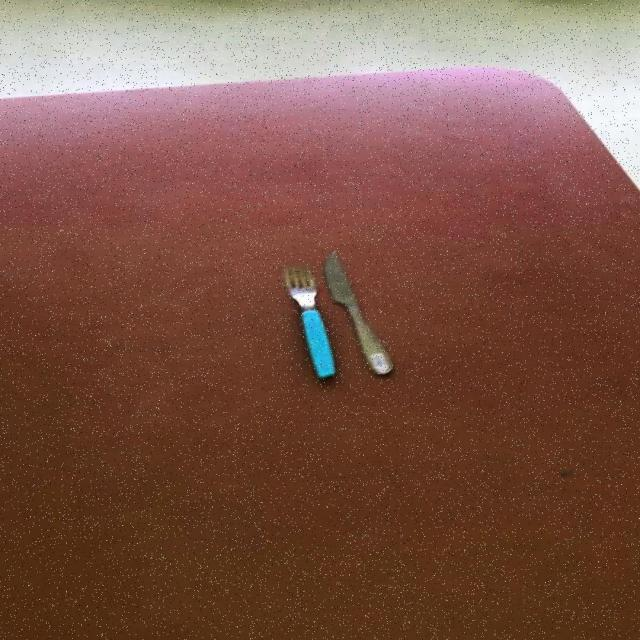Fork: (280, 265, 335, 380)
Knife: (321, 249, 394, 375)
